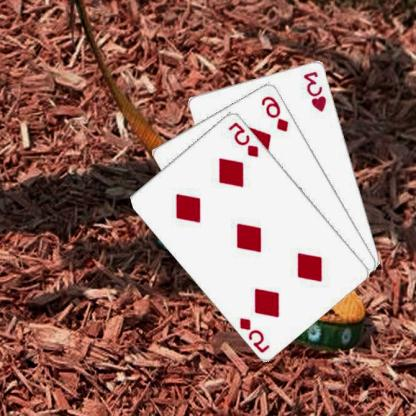3H: (302, 68, 330, 112)
5D: (227, 119, 262, 158), (238, 314, 272, 354)
6D: (260, 92, 292, 133)
